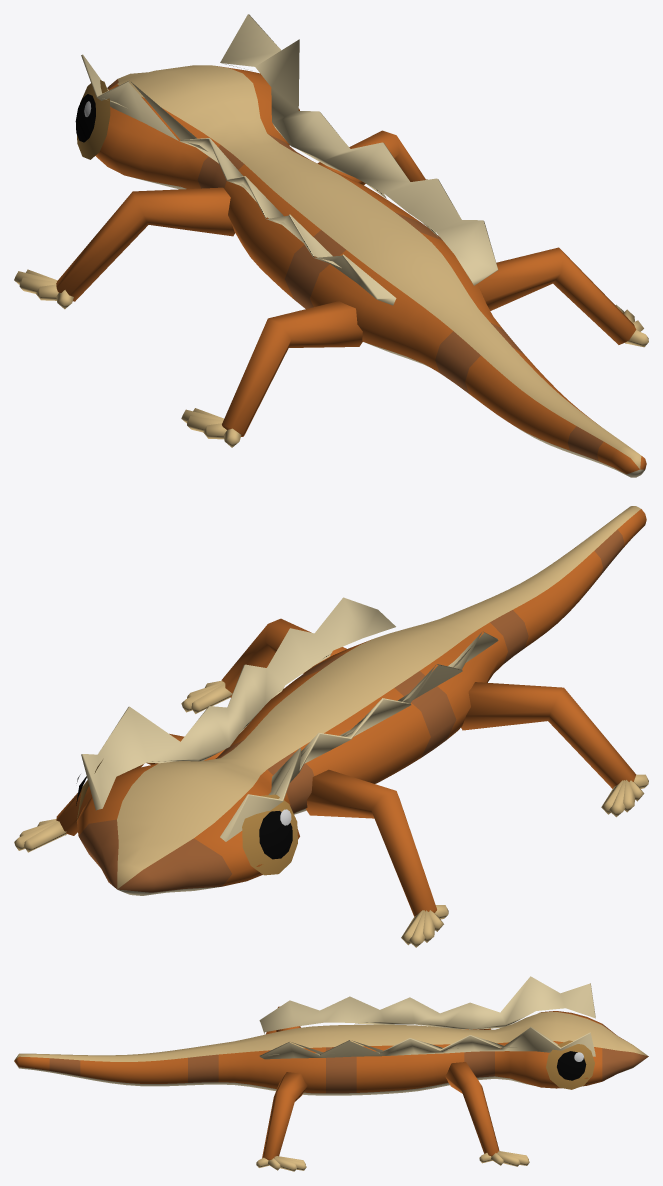
Rendered from crested_gecko.glb.
The picture shows the model from 3 angles, top to bottom: view 1: azimuth 30°, elevation 25°; view 2: azimuth 150°, elevation 25°; view 3: azimuth 270°, elevation 25°; orthographic projection. The views are drawn at different scales.
Visible parts, largest first — view 1: crested_gecko; view 2: crested_gecko; view 3: crested_gecko.
Boxes of the visible parts, box(x1,y1,x2,y2) form: crested_gecko: box(14, 14, 648, 477); crested_gecko: box(14, 506, 648, 947); crested_gecko: box(14, 976, 648, 1171).
Bounding box in the file's own units: 1.25 × 0.4667 × 2.53.
